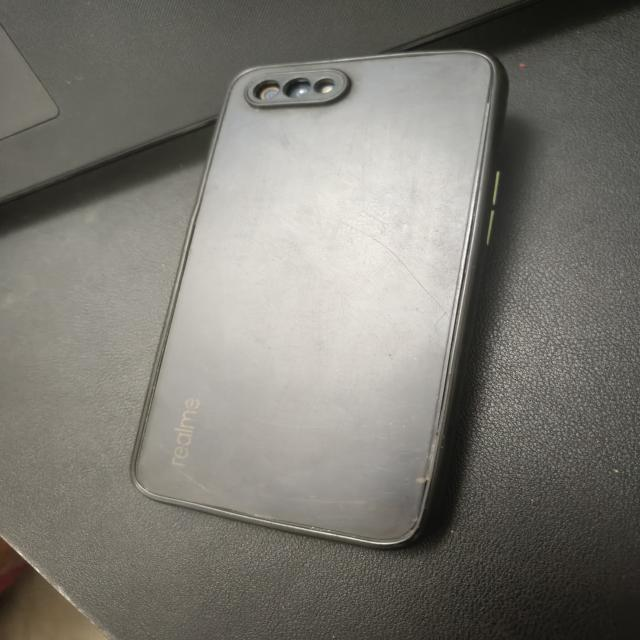mobile: (135, 55, 494, 547)
